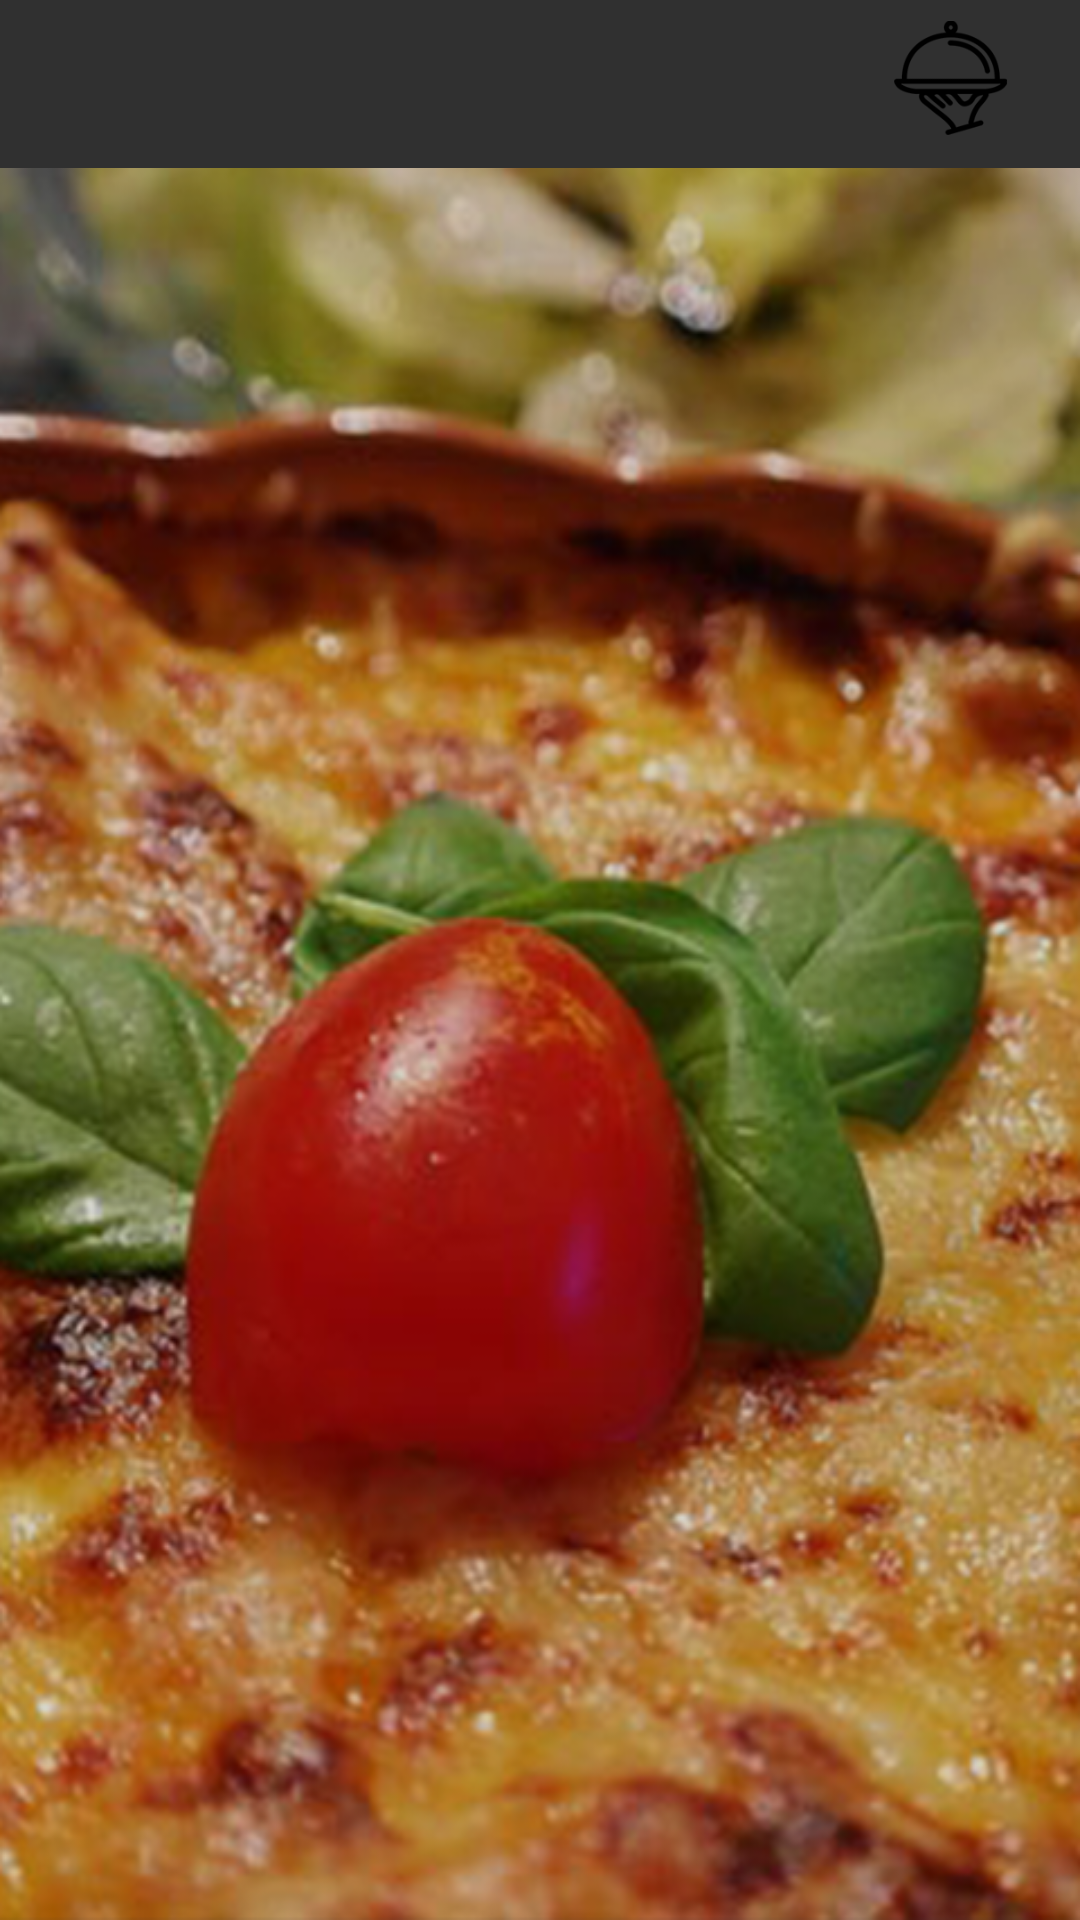

Screen size 1080w x 1920h. Icon name, then its box in pixels as region(x1, y1, x2, y2):
plato: region(894, 21, 1007, 135)
